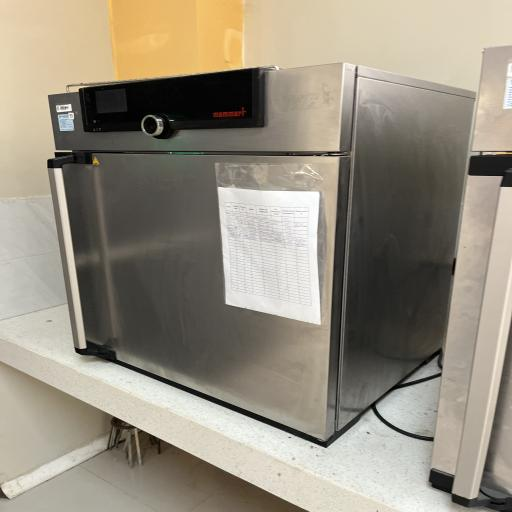Memmert_Unidad2: (36, 56, 482, 446)
